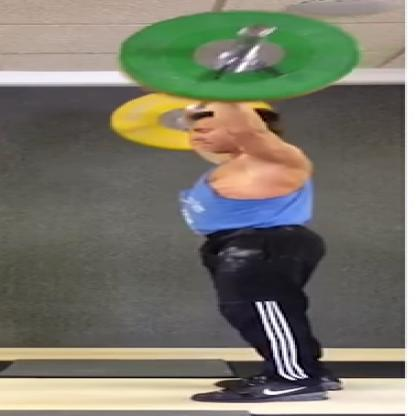Barbell: (111, 7, 376, 106)
